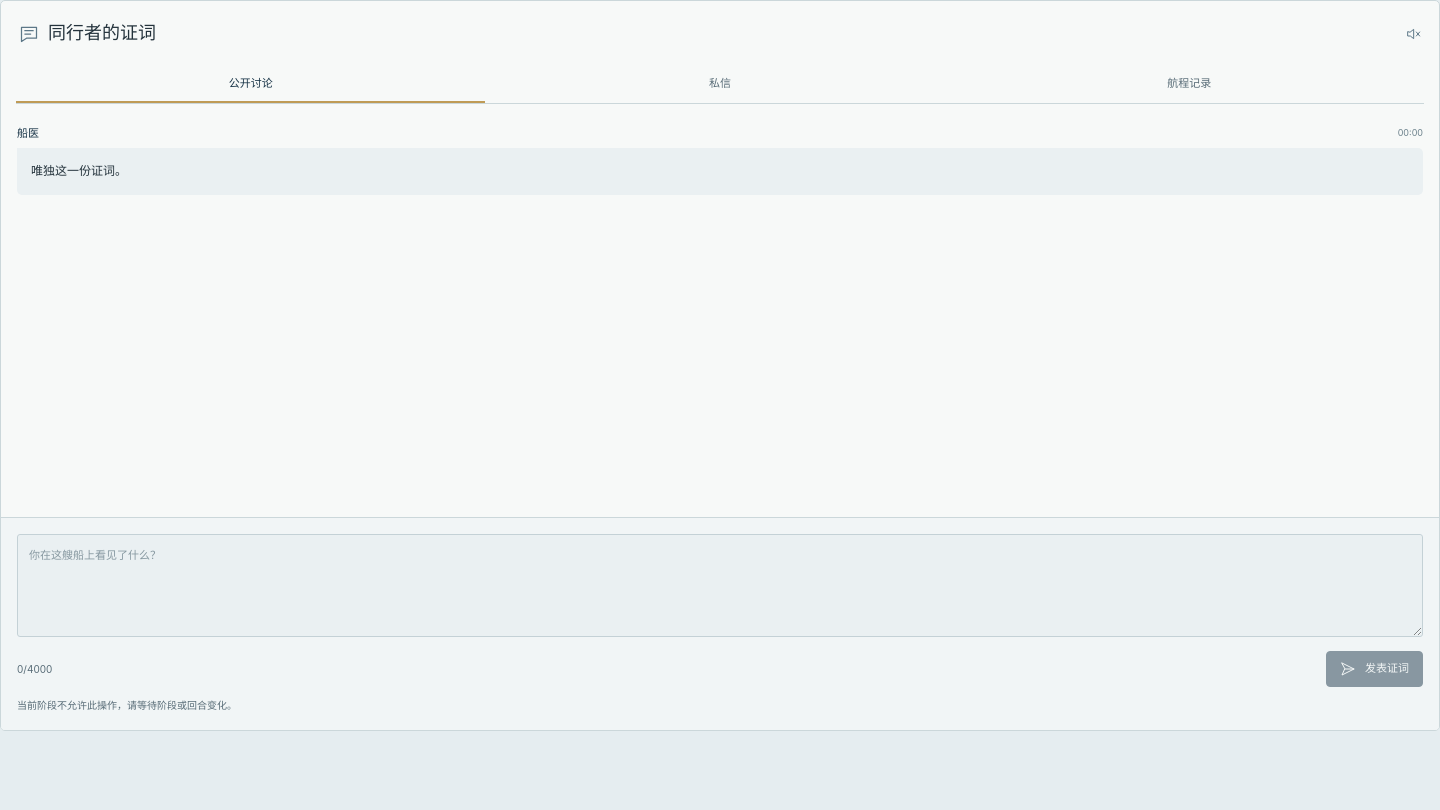
Test case: semantic panels and canonical action parameters › keeps TTS-only text readable without speech support and hides private text from public chat
Check: the text "唯独这一份证词。" is shown, box [17,148,1423,195]
Check: the text "这是秘密。" is not shown
Click the tab "私信". click: [720, 83]
box: [485,63,955,103]
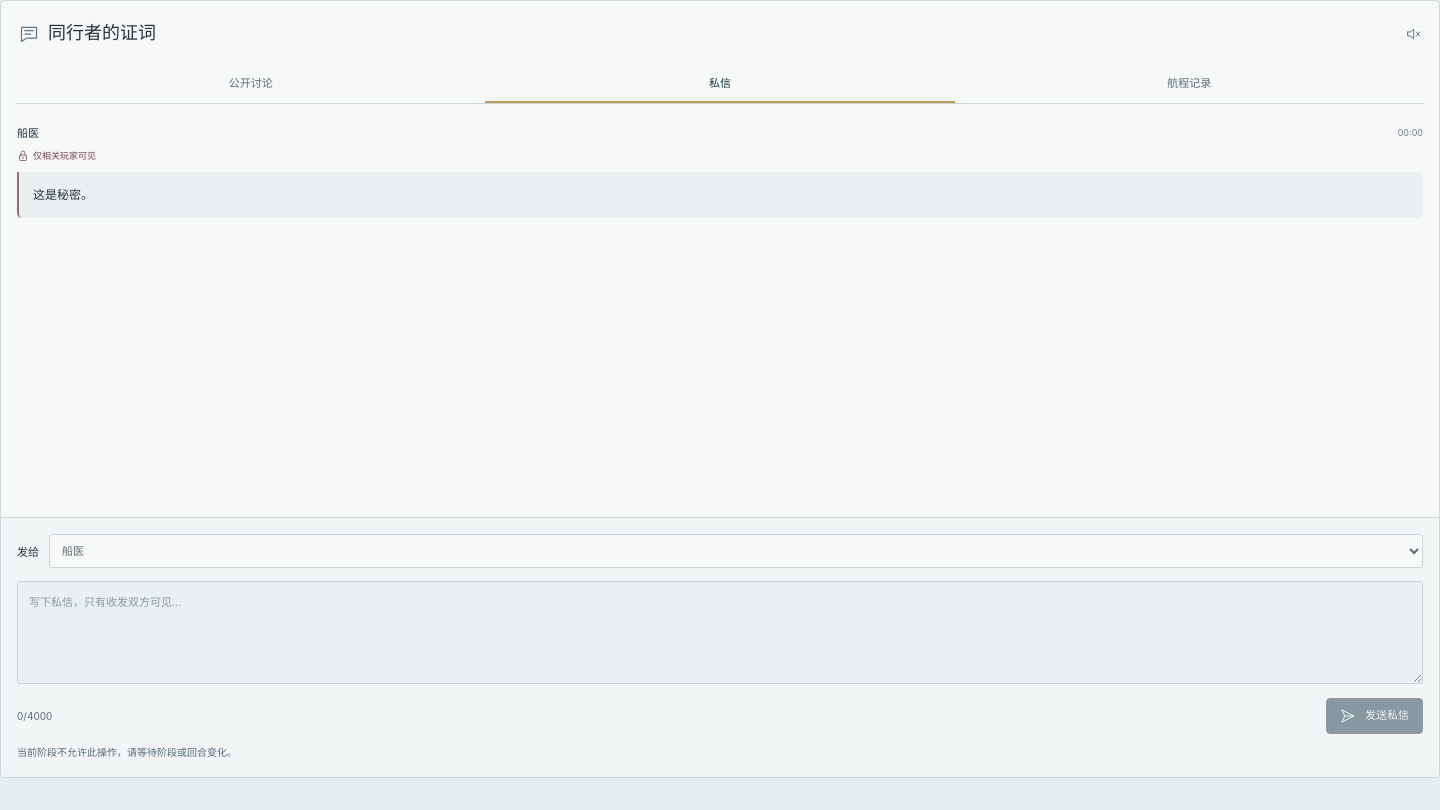
Check: the text "这是秘密。" is shown, box [17,172,1423,218]
Check: the text "唯独这一份证词。" is gone
